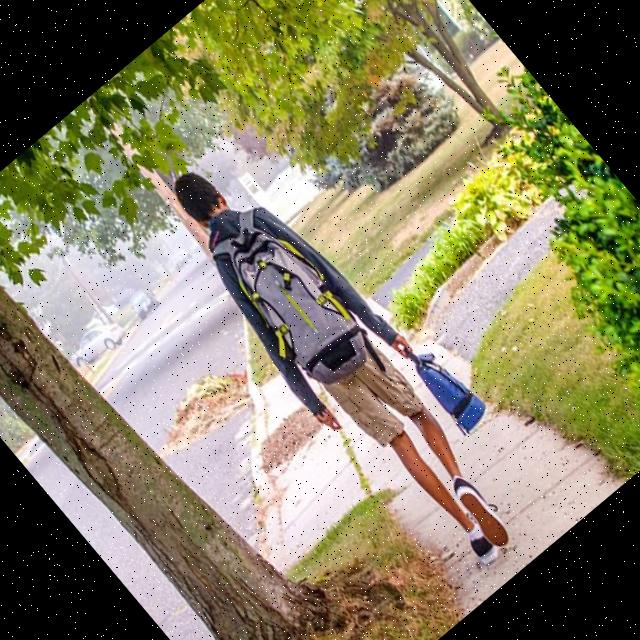Person: (140, 121, 564, 589)
